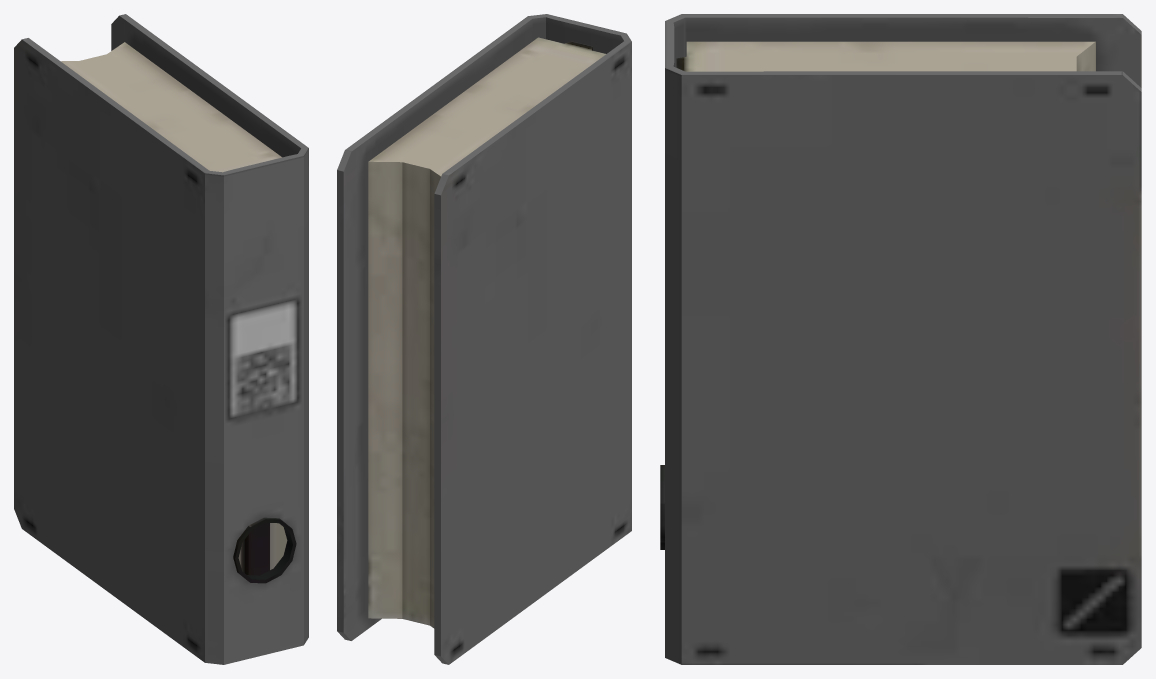
Rendered from SM_Docs_Case_01_df809d.glb.
3 views of the same model, side by side, from view 1: azimuth 30°, elevation 25°; view 2: azimuth 150°, elevation 25°; view 3: azimuth 270°, elevation 25° (orthographic). The views are drawn at different scales.
Size of the model in its own units: 0.0817 by 0.3674 by 0.2718.
1 material, 1 textured.
